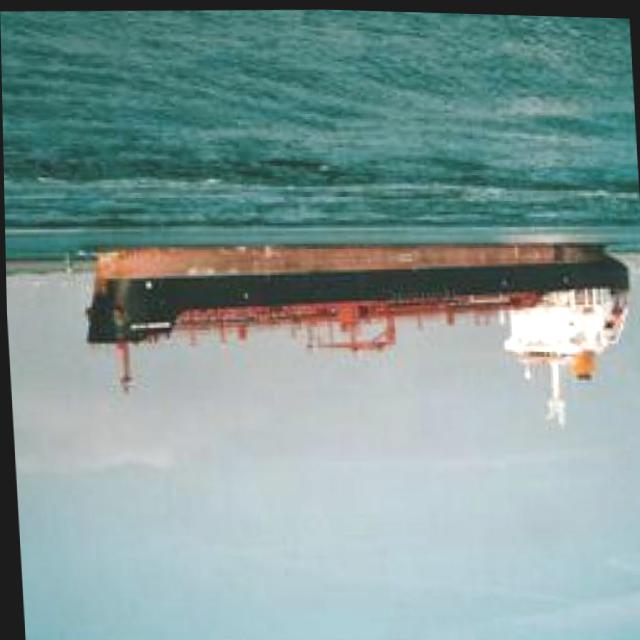ship2: (82, 236, 628, 428)
